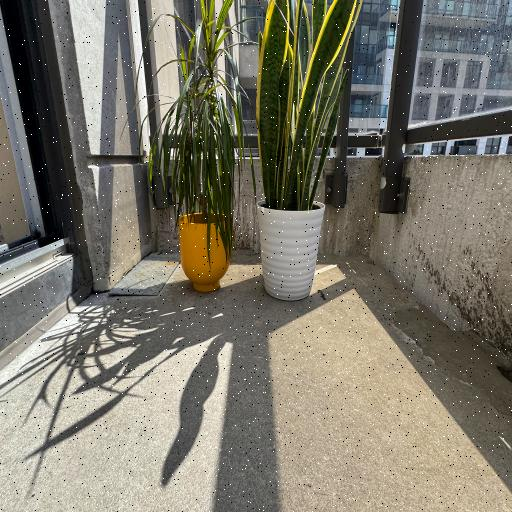Plant Pot: (256, 198, 328, 301), (178, 210, 233, 294)
